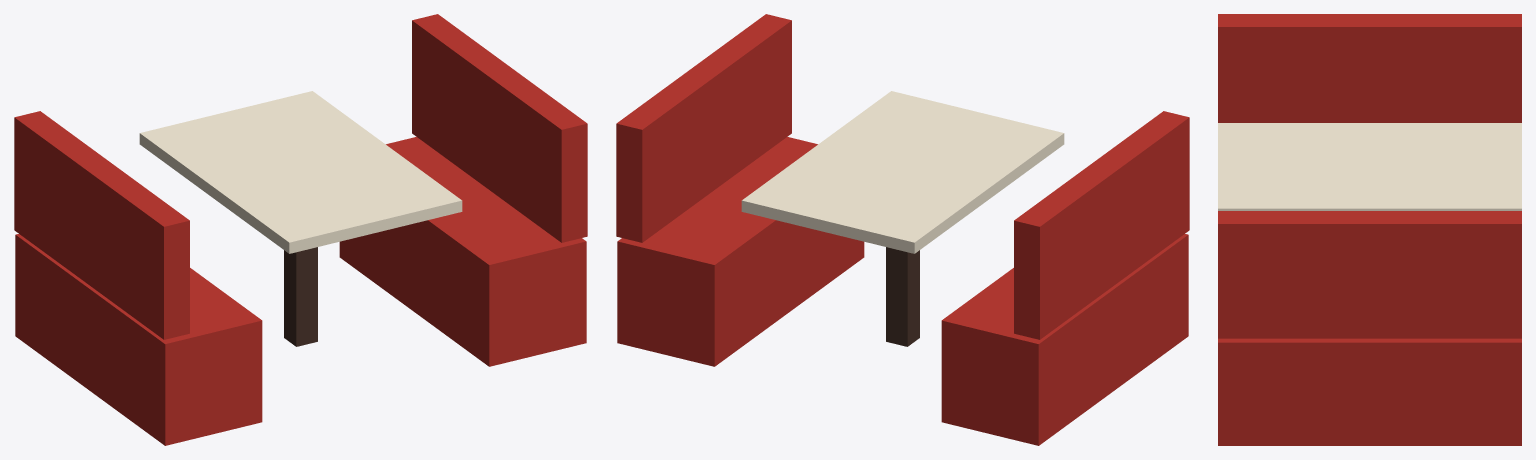
The model's file is booth_101.glb.
3 views of the same model, side by side, from view 1: azimuth 30°, elevation 25°; view 2: azimuth 150°, elevation 25°; view 3: azimuth 270°, elevation 25° (orthographic).
Parts seen in each view (by area): view 1: Box1, Box3, Box5, Box4, Box6, Box2; view 2: Box1, Box3, Box5, Box4, Box6, Box2; view 3: Box4, Box6, Box3, Box1.
Part boxes in pixels (x1,y1,x2,y2): Box1: [139, 91, 462, 253]; Box3: [339, 137, 586, 366]; Box5: [15, 234, 262, 445]; Box4: [412, 14, 587, 242]; Box6: [14, 111, 189, 339]; Box2: [284, 247, 317, 346]; Box1: [741, 91, 1064, 253]; Box3: [617, 137, 864, 366]; Box5: [941, 234, 1188, 445]; Box4: [616, 14, 791, 242]; Box6: [1014, 111, 1189, 339]; Box2: [886, 247, 919, 346]; Box4: [1218, 211, 1521, 338]; Box6: [1218, 14, 1521, 122]; Box3: [1218, 338, 1521, 445]; Box1: [1218, 123, 1521, 210].
Size of the model in its own units: 1.96 by 0.97 by 1.2.
